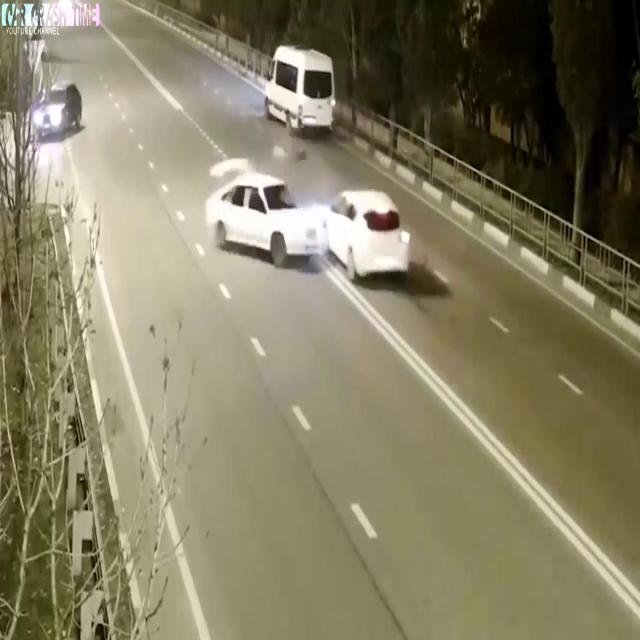accident: (198, 143, 414, 292)
